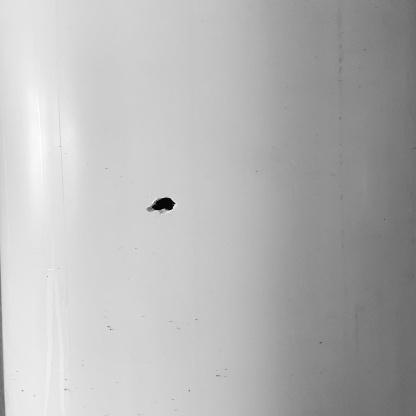kongdong: (146, 196, 179, 214)
